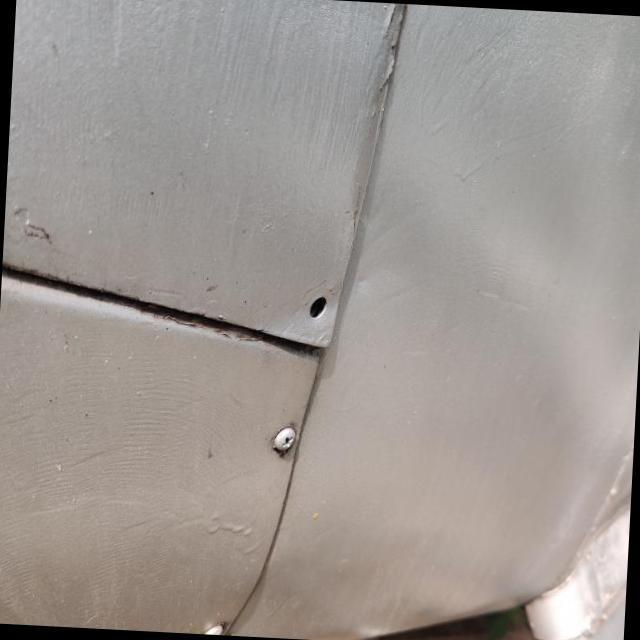Missing Fastener: (308, 296, 328, 318)
